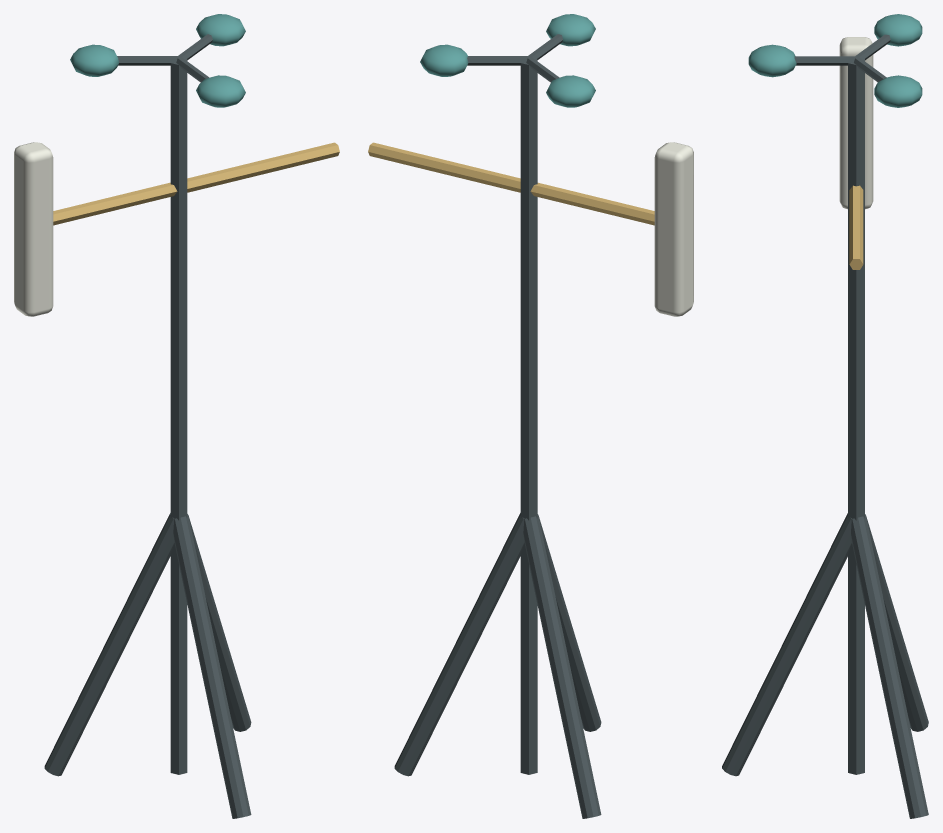
The model's file is castaway-island-escape-weather-observation-mast-f4798fd2__28069.glb.
3 views of the same model, side by side, from view 1: azimuth 30°, elevation 25°; view 2: azimuth 150°, elevation 25°; view 3: azimuth 270°, elevation 25° (orthographic).
Parts seen in each view (by area): view 1: weather-observation-mast-iron, weather-observation-mast-ivory, weather-observation-mast-brass, weather-observation-mast-teal; view 2: weather-observation-mast-iron, weather-observation-mast-ivory, weather-observation-mast-brass, weather-observation-mast-teal; view 3: weather-observation-mast-iron, weather-observation-mast-teal, weather-observation-mast-ivory, weather-observation-mast-brass.
Part boxes in pixels (x1=…): weather-observation-mast-iron: x1=44, y1=34, x2=251, y2=818; weather-observation-mast-ivory: x1=14, y1=142, x2=53, y2=316; weather-observation-mast-brass: x1=53, y1=142, x2=339, y2=225; weather-observation-mast-teal: x1=70, y1=14, x2=245, y2=107; weather-observation-mast-iron: x1=394, y1=34, x2=601, y2=818; weather-observation-mast-ivory: x1=654, y1=142, x2=693, y2=316; weather-observation-mast-brass: x1=368, y1=142, x2=654, y2=225; weather-observation-mast-teal: x1=420, y1=14, x2=595, y2=107; weather-observation-mast-iron: x1=722, y1=34, x2=928, y2=818; weather-observation-mast-teal: x1=748, y1=14, x2=922, y2=107; weather-observation-mast-ivory: x1=839, y1=37, x2=873, y2=209; weather-observation-mast-brass: x1=849, y1=185, x2=863, y2=269.
Bounding box in the file's own units: 1.31 × 2.86 × 0.7393.
